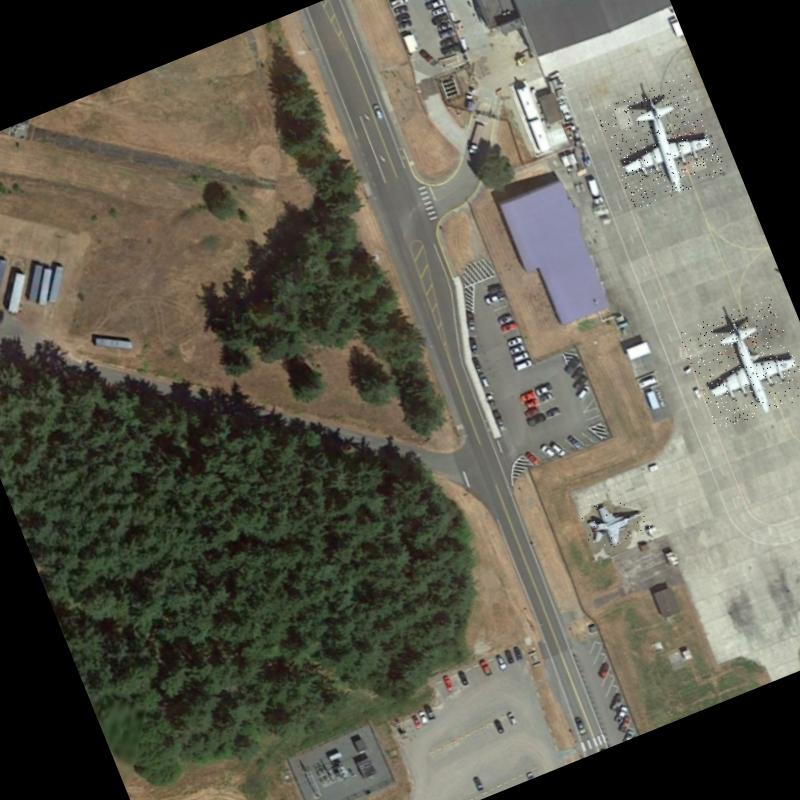A16: (573, 484, 653, 557)
A9: (594, 73, 728, 210), (676, 293, 800, 432)
